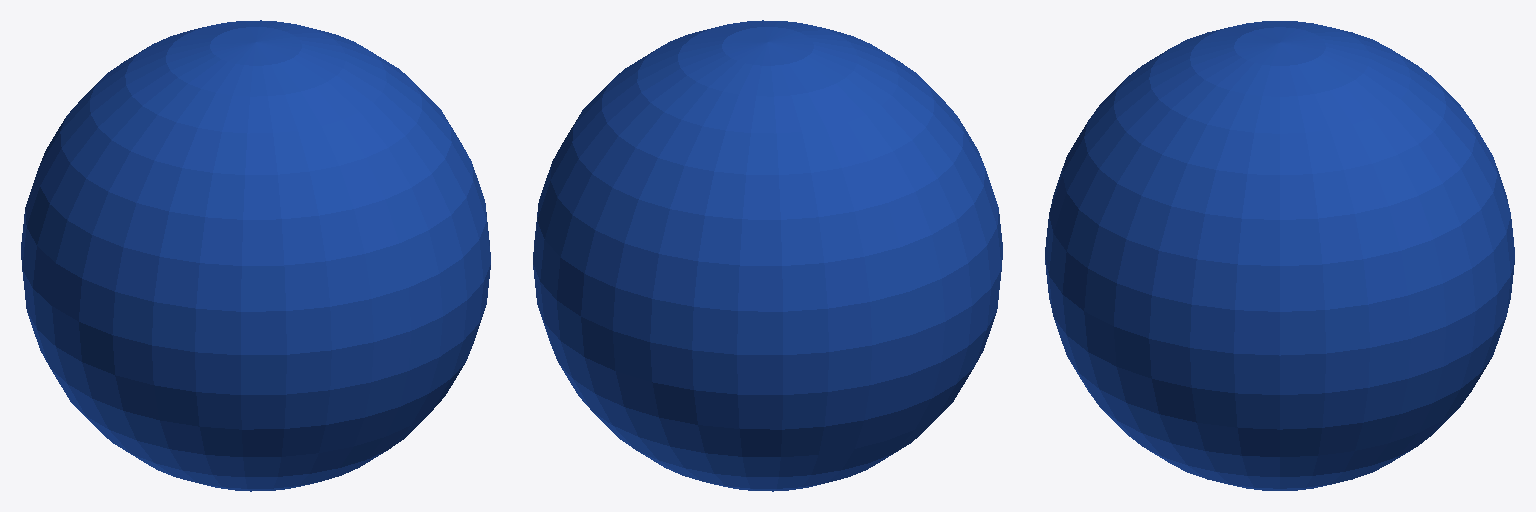
robot.urdf — earth:
<?xml version="1.0"?>
<!-- The Earth, unit sphere scaled by the plugin -->
<robot name="earth">
  <link name="base">
    <visual>
      <origin xyz="0 0 0" rpy="0 0 0"/>
      <geometry><sphere radius="1"/></geometry>
      <material name="base_0"><color rgba="0.180 0.360 0.700 1"/></material>
    </visual>
    <inertial><mass value="1"/><origin xyz="0 0 0"/><inertia ixx="1" ixy="0" ixz="0" iyy="1" iyz="0" izz="1"/></inertial>
  </link>
</robot>

--- Facts derived from the render (not from the file) ---
3 views of the same robot in one strip: view 1: azimuth 30°, elevation 25°; view 2: azimuth 150°, elevation 25°; view 3: azimuth 270°, elevation 25° (orthographic).
Robot: earth — 1 links, 0 joints (none); root link base; default pose: all joints at 0.
Visible links, largest first — view 1: base; view 2: base; view 3: base.
Boxes of the visible links, bbox=[...] form: base: bbox=[21, 20, 490, 491]; base: bbox=[533, 20, 1002, 491]; base: bbox=[1045, 21, 1514, 490].
Size in the robot's own frame: 2 by 2 by 2 metres.
Geometry: primitives only (box / cylinder / sphere), no mesh files.
